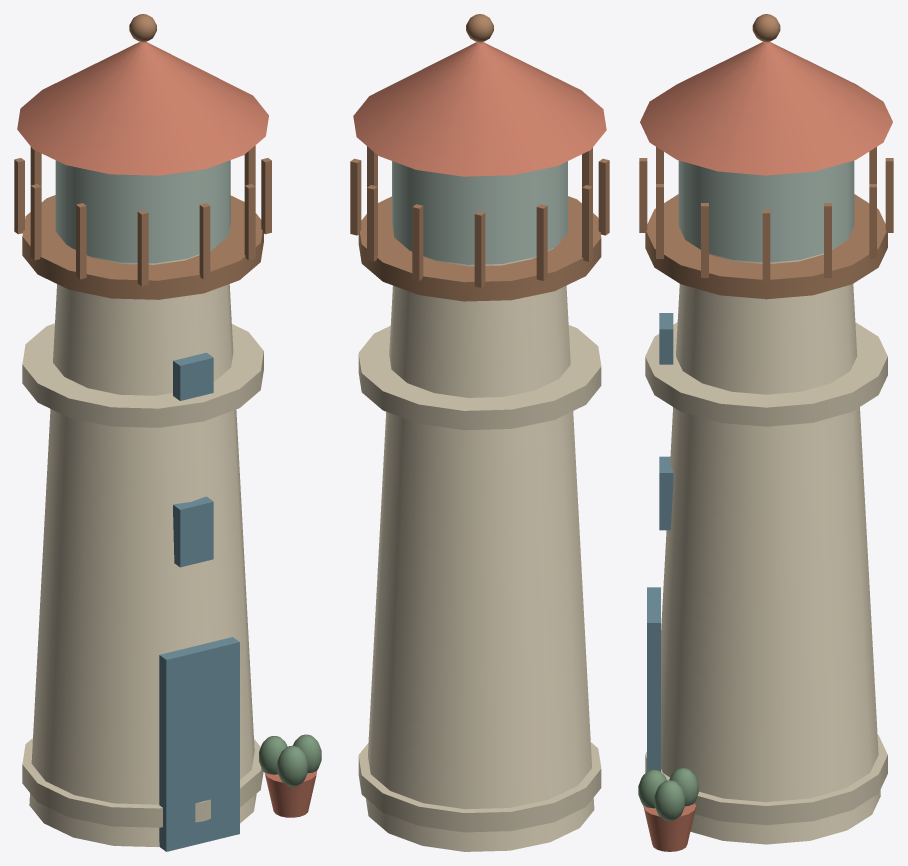
The model's file is lighthouse.glb.
3 renders of one model, left to right at view 1: azimuth 30°, elevation 25°; view 2: azimuth 150°, elevation 25°; view 3: azimuth 270°, elevation 25°, orthographic.
Visible parts, largest first — view 1: _MeshInstance3D_202, _MeshInstance3D_207, _MeshInstance3D_222, _MeshInstance3D_206, _MeshInstance3D_204, _MeshInstance3D_205, _MeshInstance3D_203, _MeshInstance3D_223, _MeshInstance3D_224, _MeshInstance3D_225, _MeshInstance3D_227, _MeshInstance3D_213 (+9 smaller); view 2: _MeshInstance3D_202, _MeshInstance3D_207, _MeshInstance3D_206, _MeshInstance3D_204, _MeshInstance3D_205, _MeshInstance3D_203, _MeshInstance3D_216, _MeshInstance3D_217, _MeshInstance3D_218, _MeshInstance3D_220, _MeshInstance3D_214, _MeshInstance3D_215 (+2 smaller); view 3: _MeshInstance3D_202, _MeshInstance3D_207, _MeshInstance3D_206, _MeshInstance3D_204, _MeshInstance3D_205, _MeshInstance3D_203, _MeshInstance3D_222, _MeshInstance3D_225, _MeshInstance3D_226, _MeshInstance3D_223, _MeshInstance3D_224, _MeshInstance3D_227 (+9 smaller).
Boxes of the visible parts, x1,y1,x2,y2 form: _MeshInstance3D_202: [29, 247, 256, 847]; _MeshInstance3D_207: [17, 42, 268, 175]; _MeshInstance3D_222: [159, 637, 239, 851]; _MeshInstance3D_206: [55, 160, 230, 263]; _MeshInstance3D_204: [22, 323, 263, 427]; _MeshInstance3D_205: [22, 195, 263, 299]; _MeshInstance3D_203: [22, 738, 263, 827]; _MeshInstance3D_223: [173, 496, 213, 567]; _MeshInstance3D_224: [173, 352, 213, 400]; _MeshInstance3D_225: [265, 770, 317, 817]; _MeshInstance3D_227: [277, 745, 308, 786]; _MeshInstance3D_213: [137, 210, 148, 286]; _MeshInstance3D_202: [365, 248, 594, 851]; _MeshInstance3D_207: [353, 42, 606, 176]; _MeshInstance3D_206: [392, 161, 567, 264]; _MeshInstance3D_204: [358, 325, 601, 430]; _MeshInstance3D_205: [358, 196, 601, 301]; _MeshInstance3D_203: [358, 742, 601, 832]; _MeshInstance3D_216: [536, 204, 547, 280]; _MeshInstance3D_217: [474, 211, 485, 287]; _MeshInstance3D_218: [412, 204, 423, 280]; _MeshInstance3D_220: [350, 158, 361, 235]; _MeshInstance3D_214: [598, 158, 609, 235]; _MeshInstance3D_215: [582, 185, 592, 261]; _MeshInstance3D_202: [661, 242, 880, 844]; _MeshInstance3D_207: [640, 41, 892, 175]; _MeshInstance3D_206: [678, 160, 854, 262]; _MeshInstance3D_204: [645, 322, 887, 426]; _MeshInstance3D_205: [645, 194, 887, 299]; _MeshInstance3D_203: [645, 735, 887, 825]; _MeshInstance3D_222: [647, 587, 660, 771]; _MeshInstance3D_225: [643, 803, 695, 851]; _MeshInstance3D_226: [654, 780, 685, 821]; _MeshInstance3D_223: [659, 456, 673, 530]; _MeshInstance3D_224: [659, 313, 673, 364]; _MeshInstance3D_227: [638, 769, 666, 808].
Size of the model in its own units: 1.56 by 4.9 by 1.45.
